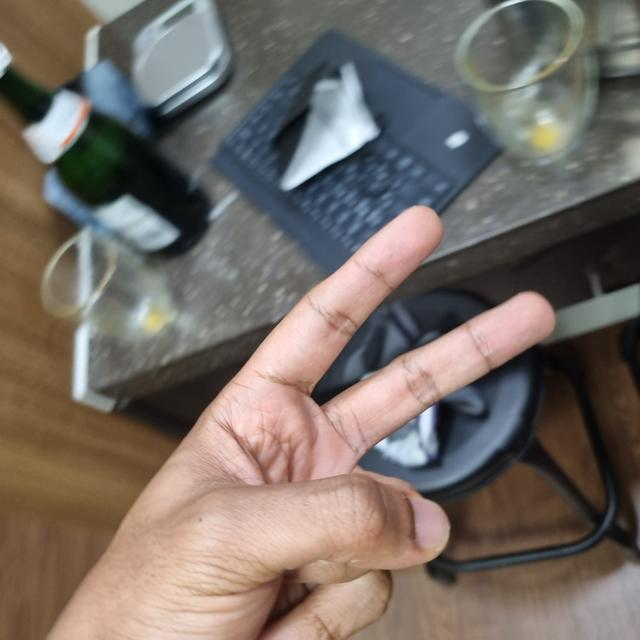Scissors: (1, 55, 426, 553)
